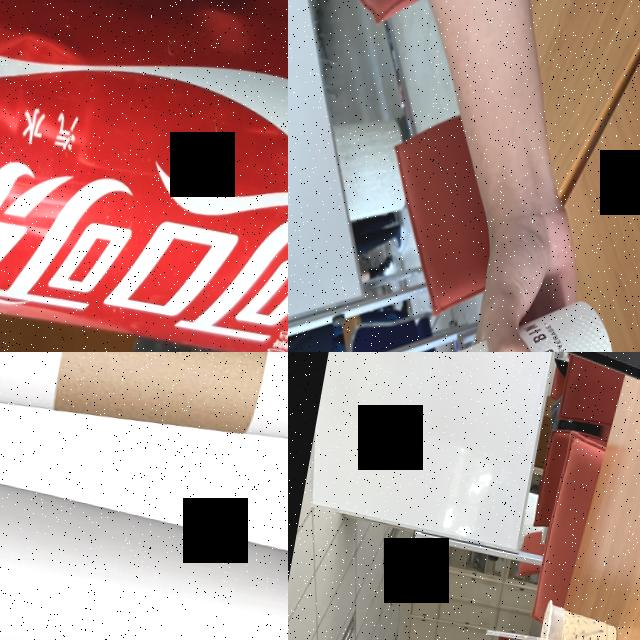can: (0, 0, 288, 352)
cup: (0, 449, 288, 640), (0, 352, 288, 478), (381, 270, 628, 352), (532, 596, 623, 640)
